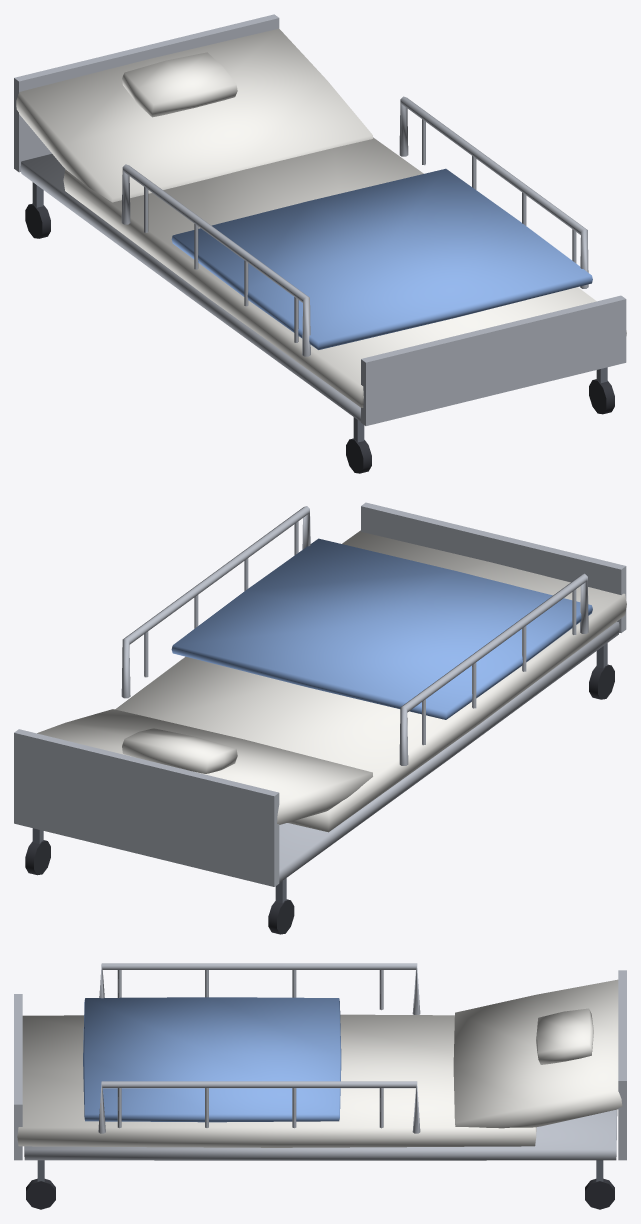
Rendered from hospital_bed.glb.
3 renders of one model, top to bottom at view 1: azimuth 30°, elevation 25°; view 2: azimuth 150°, elevation 25°; view 3: azimuth 270°, elevation 25°, orthographic. The views are drawn at different scales.
Visible parts, largest first — view 1: root; view 2: root; view 3: root.
Part boxes in pixels (left/top/right/bottom): root: left=14, top=14, right=626, bottom=473; root: left=14, top=502, right=626, bottom=934; root: left=14, top=963, right=626, bottom=1209.
Bounding box in the file's own units: 1.64 × 0.8467 × 3.51.
